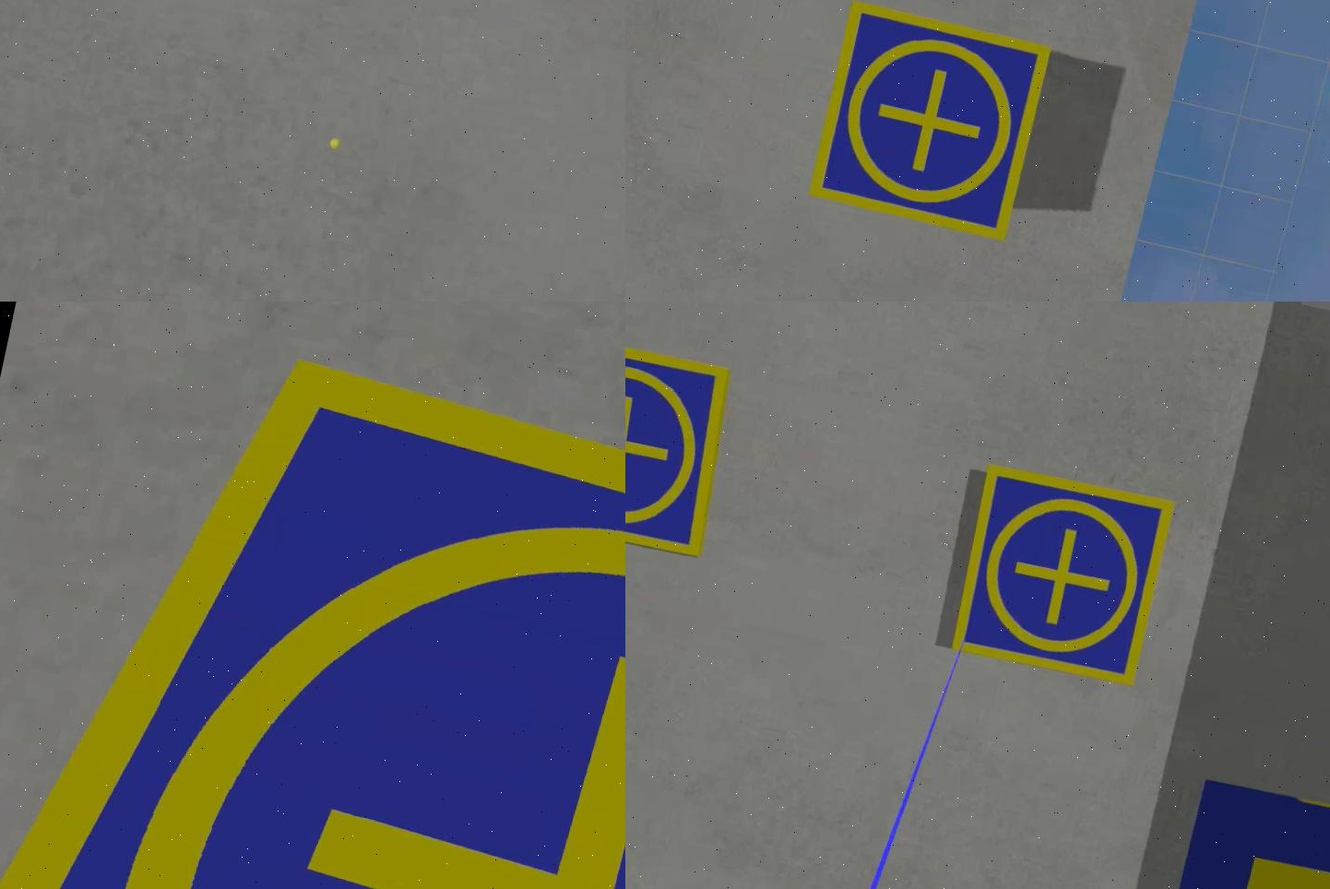small_base: (0, 314, 624, 889), (803, 1, 1056, 243), (944, 461, 1176, 694), (624, 330, 737, 564)
